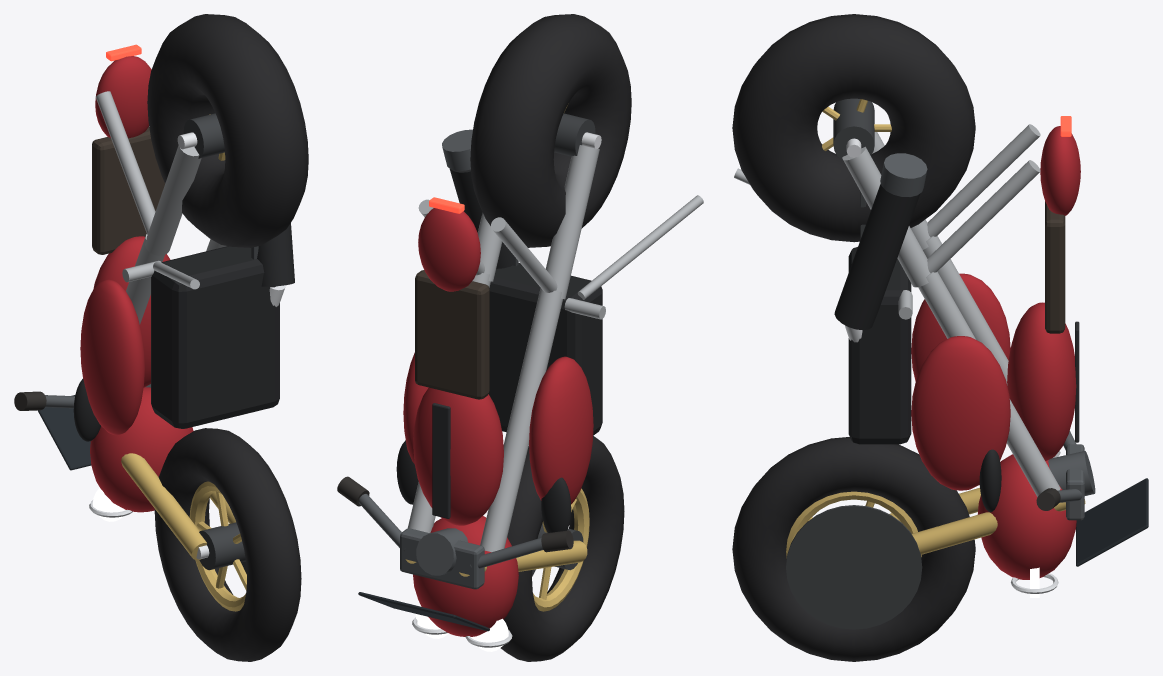
File: bike_sport.glb
The picture shows the model from 3 angles, left to right: view 1: azimuth 30°, elevation 25°; view 2: azimuth 150°, elevation 25°; view 3: azimuth 270°, elevation 25°; orthographic projection.
Parts seen in each view (by area): view 1: sp_rear_tire, sp_front_tire, sp_belly, sp_side-0, sp_seat, sp_nose, sp_tail, sp_swing, sp_fork_low, sp_subframe, sp_tank, sp_screen (+10 smaller); view 2: sp_rear_tire, sp_front_tire, sp_belly, sp_seat, sp_tank, sp_side-0, sp_spar, sp_nose, sp_tail, sp_swing, sp_clamp, sp_tank_stripe (+19 smaller); view 3: sp_rear_tire, sp_front_tire, sp_front_brake, sp_side0, sp_belly, sp_tank, sp_nose, sp_muffler, sp_screen, sp_spar.001, sp_side-0, sp_tail (+12 smaller).
Part boxes in pixels (box(x1,y1,x2,y2)): sp_rear_tire: box(147, 14, 308, 247); sp_front_tire: box(154, 428, 301, 661); sp_belly: box(151, 246, 279, 428); sp_side-0: box(80, 279, 144, 435); sp_seat: box(92, 127, 164, 254); sp_nose: box(90, 387, 193, 512); sp_tail: box(95, 56, 151, 138); sp_swing: box(145, 145, 201, 255); sp_fork_low: box(121, 453, 206, 560); sp_subframe: box(95, 91, 155, 234); sp_tank: box(93, 236, 170, 387); sp_screen: box(37, 395, 91, 470); sp_rear_tire: box(470, 14, 631, 247); sp_front_tire: box(500, 436, 624, 661); sp_belly: box(488, 263, 602, 435); sp_seat: box(415, 270, 489, 399); sp_tank: box(413, 387, 503, 525); sp_side-0: box(529, 356, 593, 504); sp_spar: box(480, 288, 562, 552); sp_nose: box(413, 516, 518, 636); sp_tail: box(418, 208, 480, 291); sp_swing: box(545, 145, 599, 299); sp_clamp: box(400, 528, 484, 589); sp_tank_stripe: box(432, 403, 450, 518); sp_rear_tire: box(732, 14, 975, 242); sp_front_tire: box(732, 437, 975, 661); sp_front_brake: box(786, 505, 922, 629); sp_side0: box(911, 336, 1010, 490); sp_belly: box(848, 247, 911, 444); sp_tank: box(1007, 302, 1076, 460); sp_nose: box(977, 454, 1076, 579); sp_muffler: box(834, 183, 920, 330); sp_screen: box(1076, 478, 1148, 566); sp_spar.001: box(918, 271, 1060, 496); sp_side-0: box(911, 273, 1010, 381); sp_tail: box(1040, 126, 1080, 215).
Size of the model in its own units: 0.7374 by 1.92 by 1.13.
